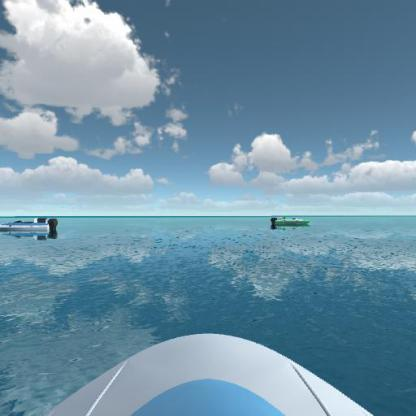usv0: (268, 210, 314, 234)
usv1: (0, 210, 62, 242)
